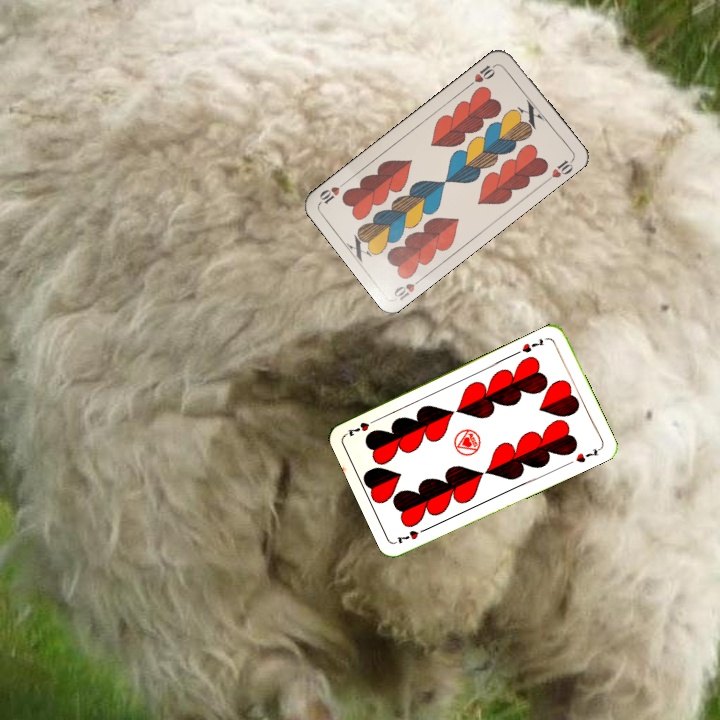H10: (390, 273, 427, 303), (465, 60, 500, 89)
H7: (392, 523, 431, 546), (518, 334, 547, 355)
